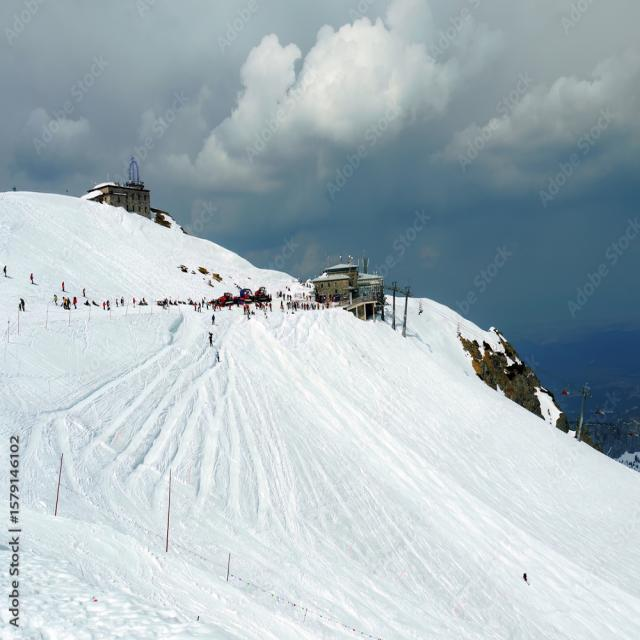Kasprowy Wierch: (2, 52, 256, 344)
